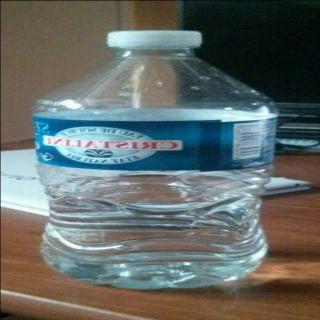Anorganik: (28, 25, 282, 292)
